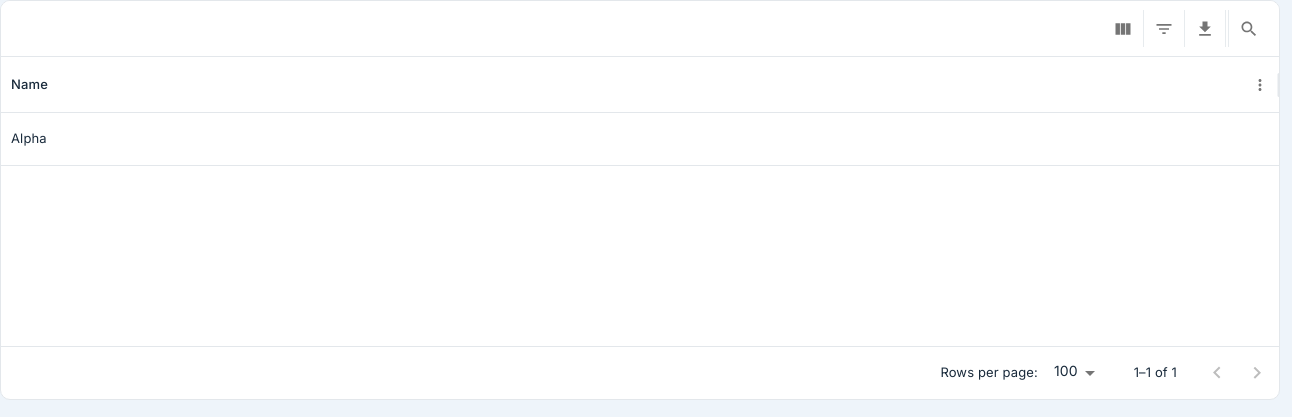
Test: CustomToolbar › expands quick filter and clears the value
Click the button named "Search" at point(1249, 28), box [1231,10,1267,46]
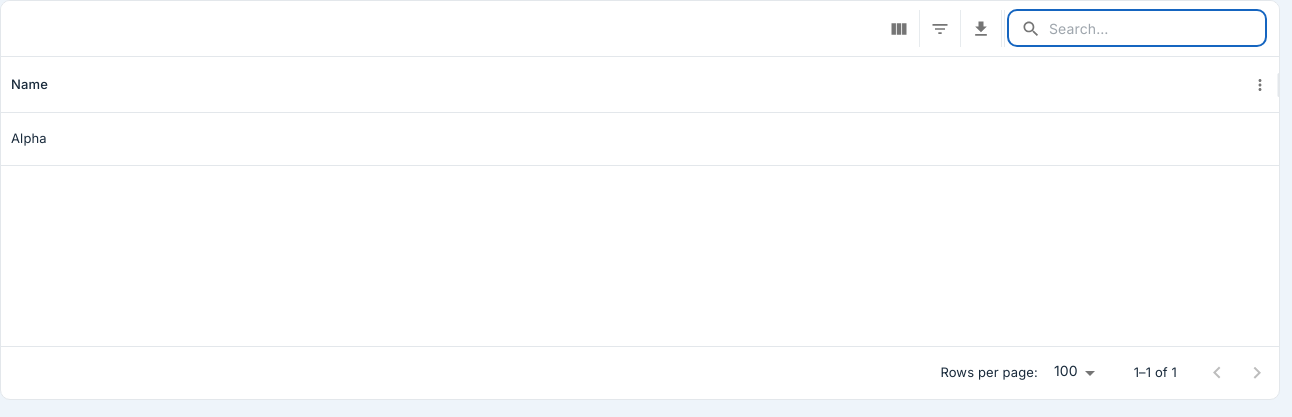
Type "alp" into the search field with placeholder "Search…" at point(1158, 28), box [1049,10,1267,47]
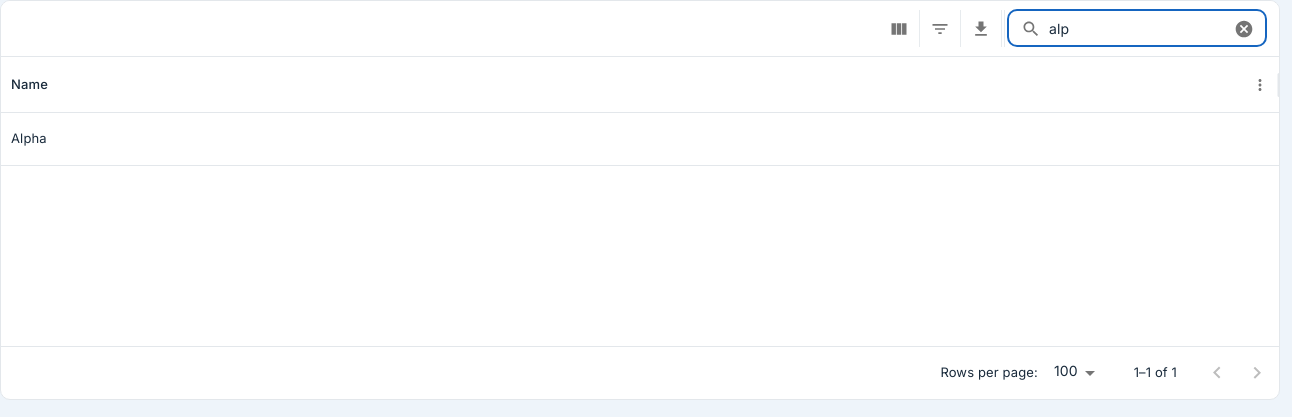
Click the button named "clear search" at point(1244, 28), box [1229,14,1259,44]
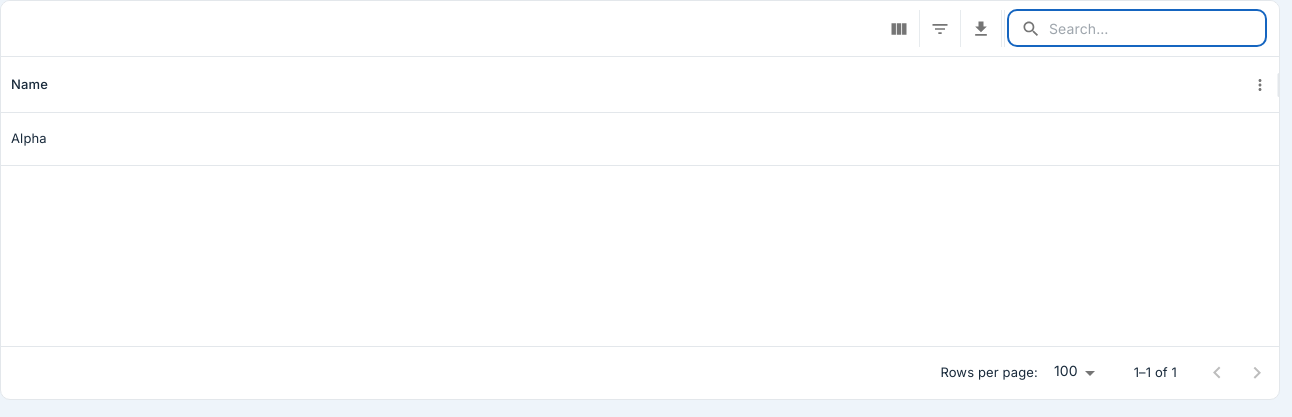
Result: the search field with placeholder "Search…" is empty at [1049,10,1267,47]
